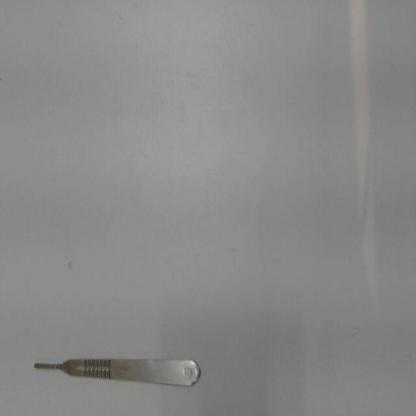No.3 BP Handle: (32, 350, 205, 394)
